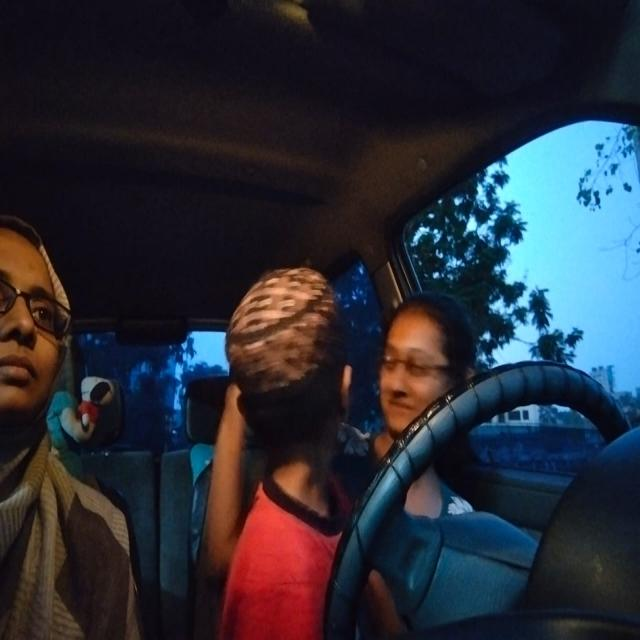child: (225, 274, 361, 465)
person: (0, 215, 75, 435), (378, 292, 465, 431)
